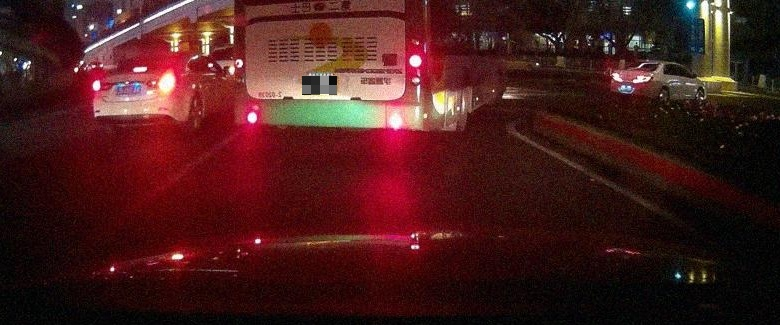L_light: (611, 72, 622, 83), (92, 79, 101, 91)
R_light: (160, 74, 175, 91), (632, 75, 652, 84)
T_light: (133, 66, 147, 72), (639, 64, 647, 66)
night-no: (611, 61, 660, 99)
night-right: (92, 54, 186, 138)
plate_1: (302, 76, 337, 95)
